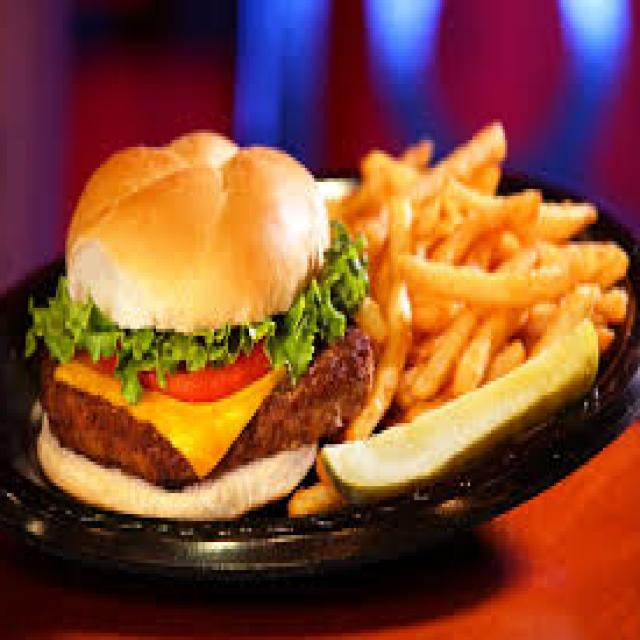Burger: (21, 119, 368, 528)
French Fries: (368, 101, 630, 413)
